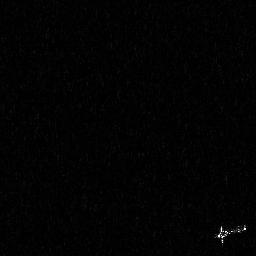ship: (213, 220, 248, 246)
